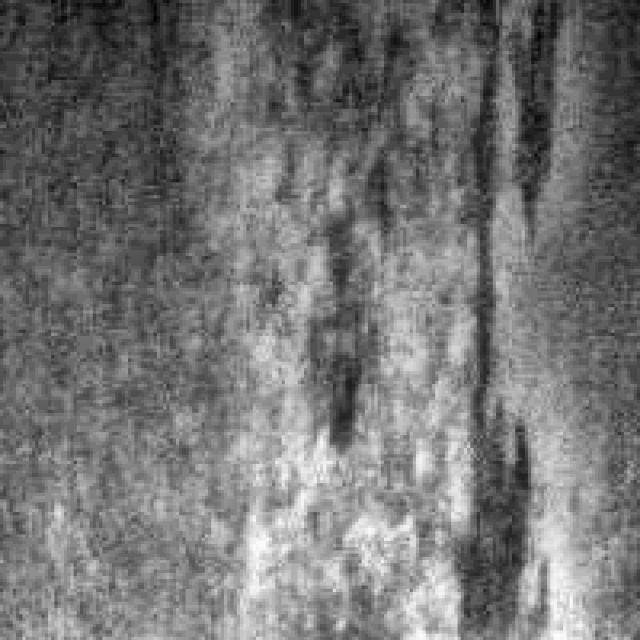Patches: (454, 0, 563, 630), (304, 140, 394, 452)
